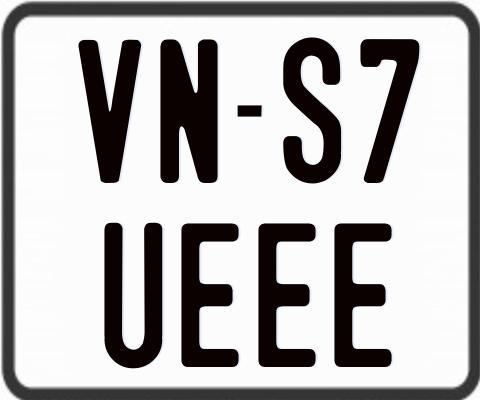7: (358, 37, 420, 183)
E: (255, 223, 317, 368), (334, 221, 395, 366), (180, 223, 238, 373)
N: (158, 38, 220, 188)
S: (283, 36, 344, 186)
U: (102, 221, 165, 370)
V: (77, 37, 139, 182)
